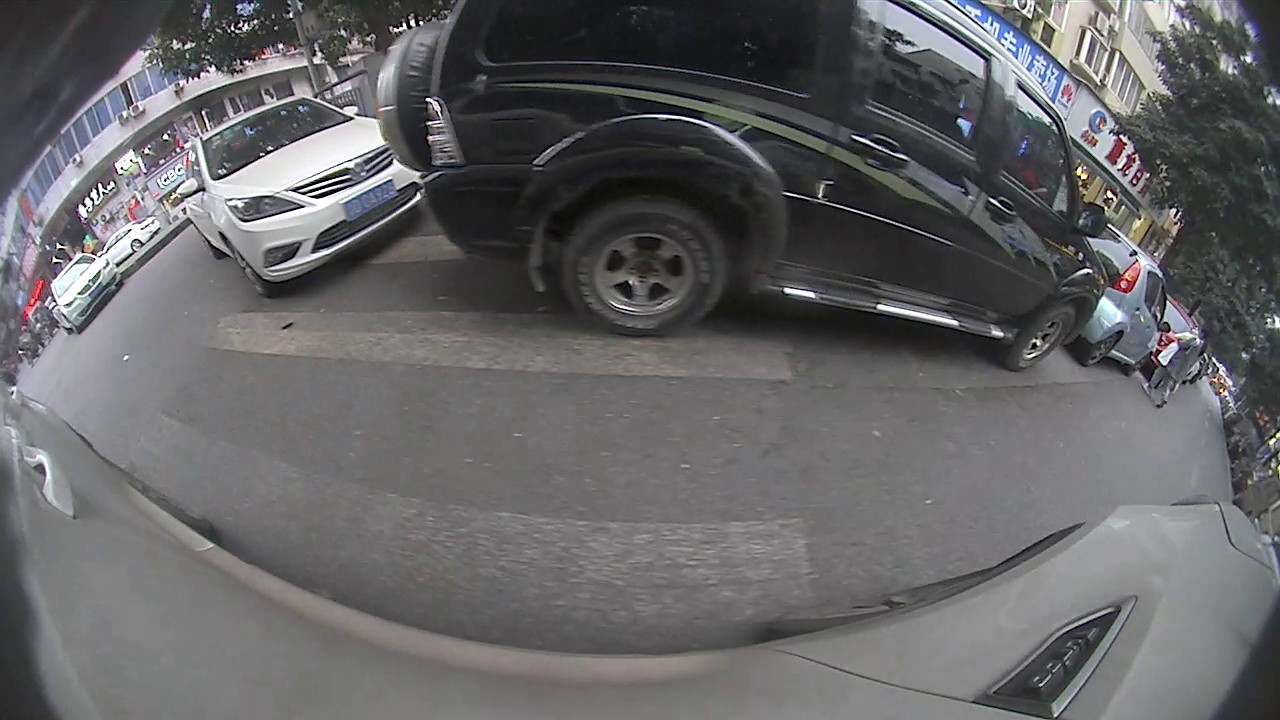car: (375, 1, 1108, 372), (177, 93, 427, 299), (1073, 212, 1171, 377), (46, 252, 124, 337), (95, 216, 163, 264)
front: (1005, 306, 1082, 370), (219, 234, 269, 297)
person: (1141, 323, 1212, 398)
rear: (561, 197, 727, 338), (1082, 332, 1124, 367), (131, 239, 145, 254)
